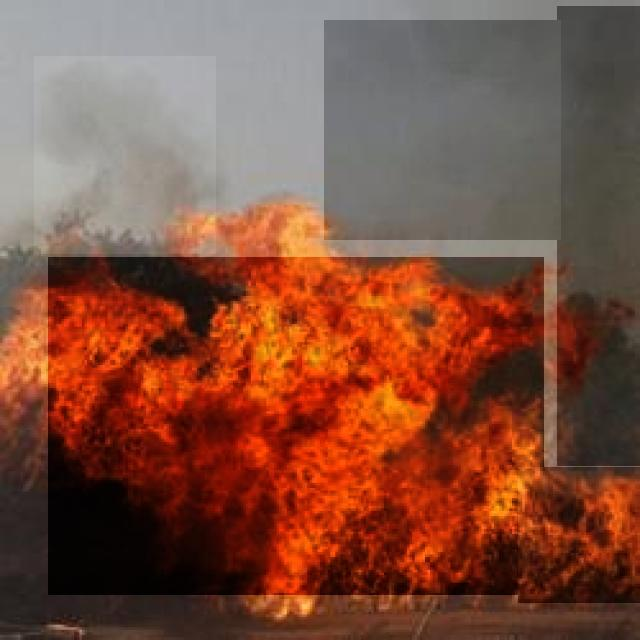Fire: (48, 258, 544, 596), (518, 467, 640, 603)
Smoke: (324, 20, 561, 240), (557, 6, 640, 466), (34, 56, 216, 255)
